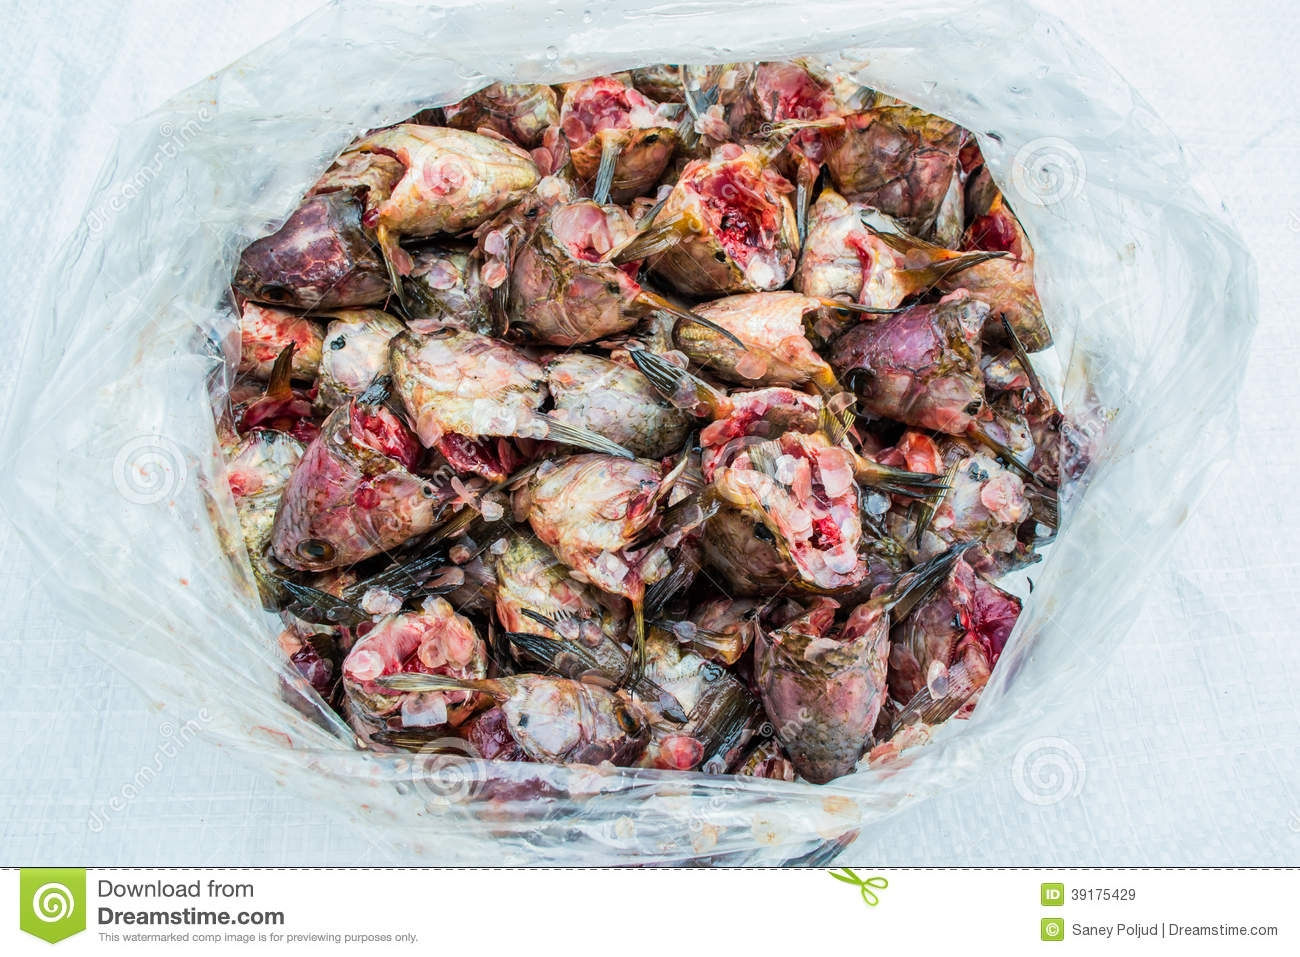kitchen_waste: (672, 407, 920, 625), (252, 378, 486, 584), (372, 319, 630, 489), (335, 113, 589, 261), (216, 176, 446, 336), (814, 283, 1017, 463), (623, 144, 844, 300), (486, 227, 723, 373), (732, 600, 899, 795), (327, 598, 513, 758), (815, 96, 988, 256), (539, 66, 711, 223), (610, 633, 771, 782), (674, 54, 850, 177), (478, 662, 639, 779)
